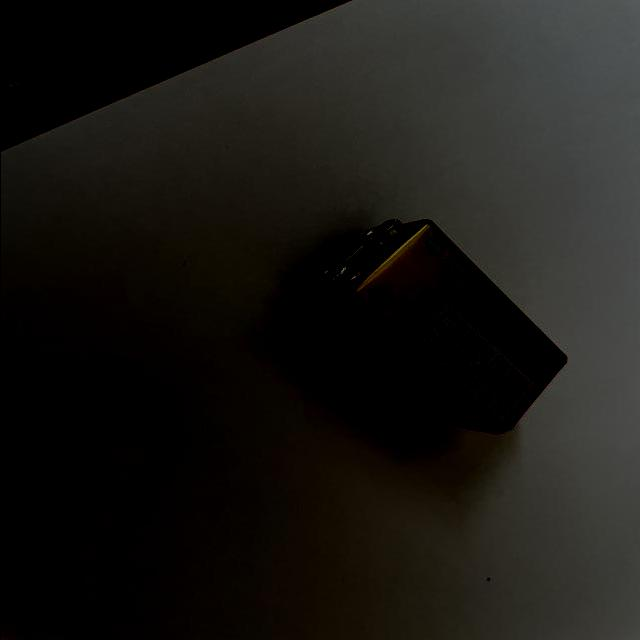9V: (303, 217, 567, 435)
